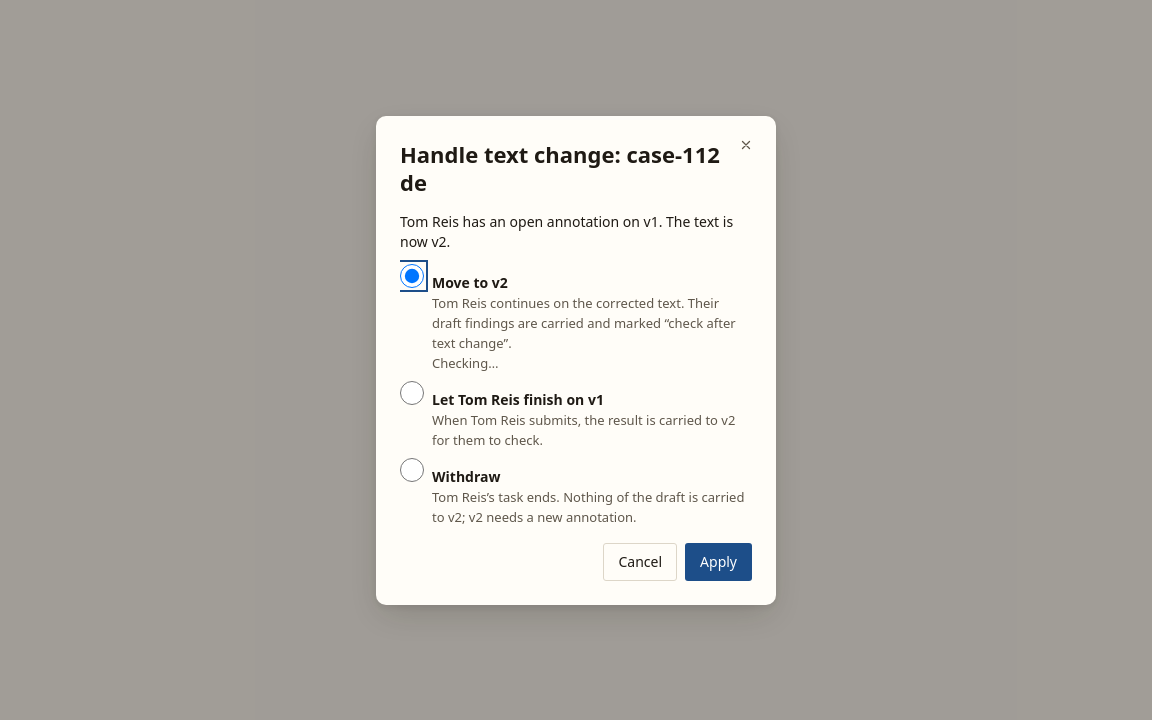
Test: HandleTextChangeDialog › TEXT_CHANGE_CHANGED shows The text or the task changed. Reloaded. and keeps the choice
Click the radio button labelled "Withdraw": (412, 470) [400,458,424,482]
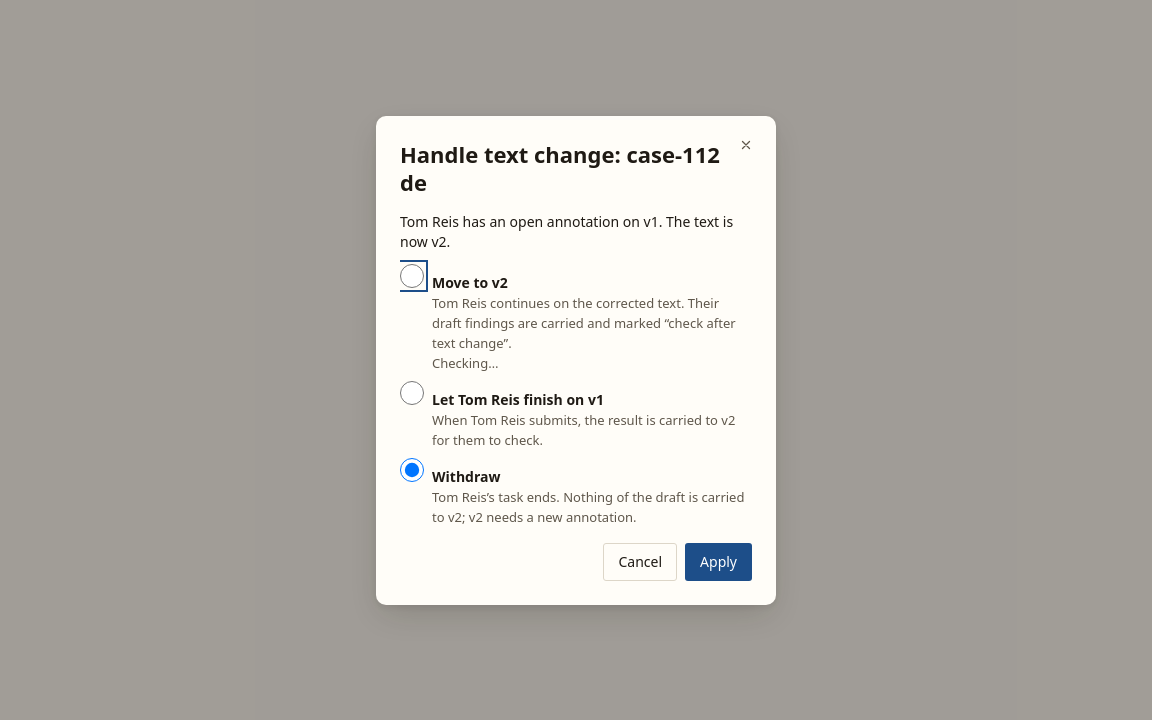
Click the button "Apply": (719, 562) [685,542,752,580]
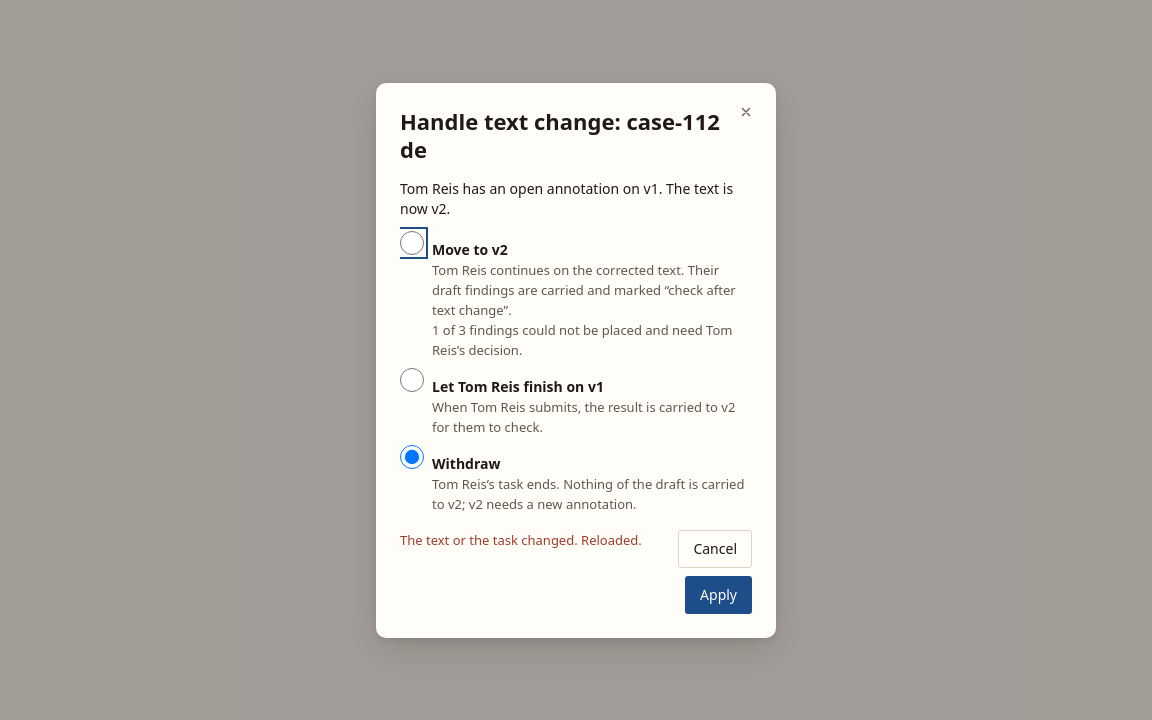
Check: the radio button labelled "Withdraw" is checked, box [400,444,424,468]
Check: the text "The text or the task changed. Reloaded." is shown, box [400,530,642,548]
